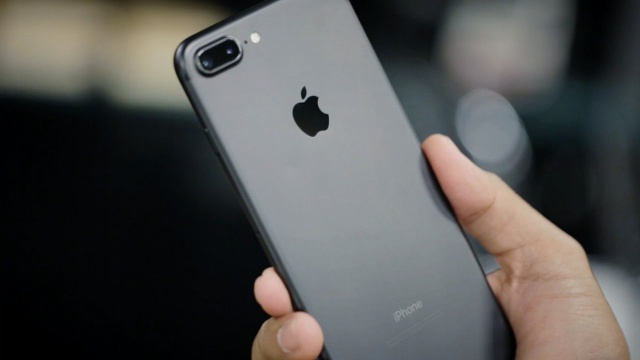apple: (286, 78, 362, 164)
